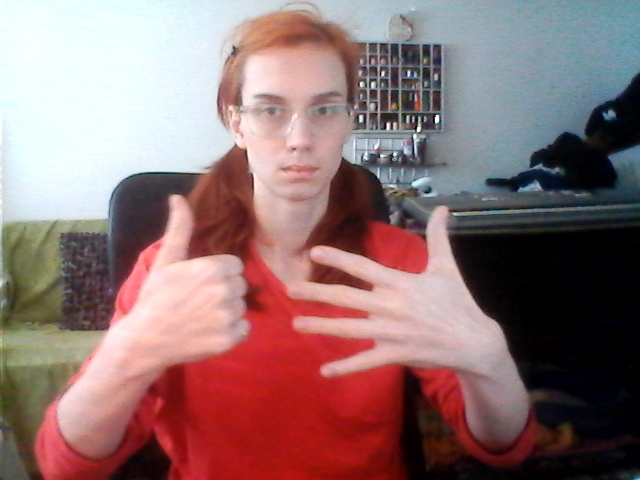sest: (140, 190, 487, 389)
